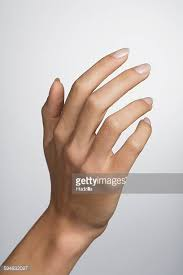hand: (28, 34, 155, 228)
